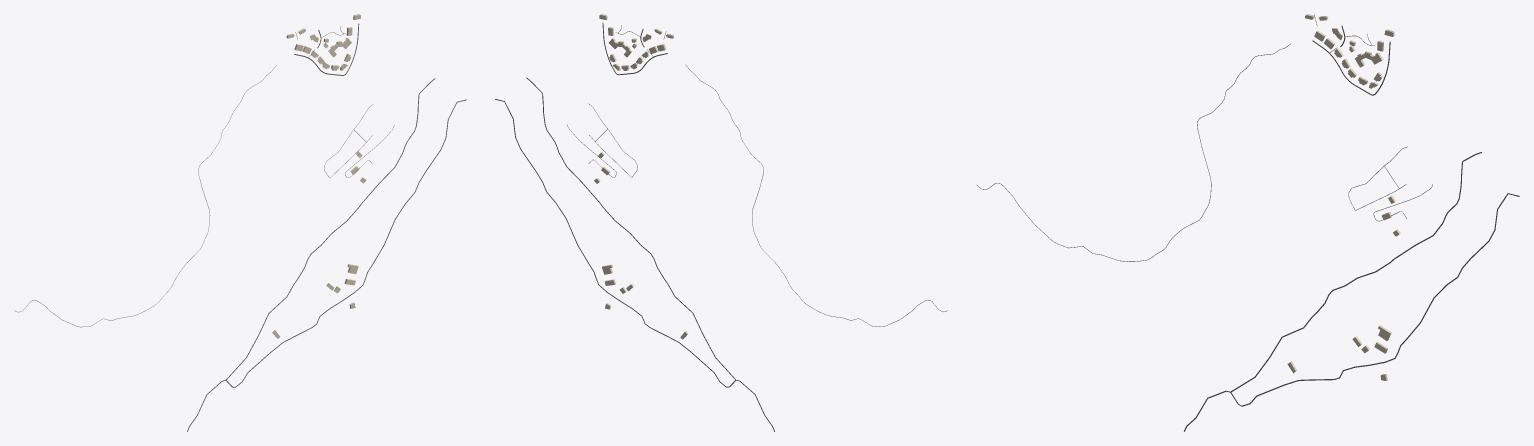
Rendered from historic-palestine-09_23_3509_3170.glb.
3 renders of one model, left to right at view 1: azimuth 30°, elevation 25°; view 2: azimuth 150°, elevation 25°; view 3: azimuth 330°, elevation 25°, orthographic. The views are drawn at different scales.
Visible parts, largest first — view 1: Road, Road .001; view 2: Road, Road .001; view 3: Road, Road .001, Road .002.
Boxes of the visible parts, <box> form: Road: <box>187,78,435,431</box>; Road .001: <box>226,99,466,387</box>; Road: <box>526,77,774,431</box>; Road .001: <box>495,99,735,387</box>; Road: <box>1184,152,1481,431</box>; Road .001: <box>1230,193,1519,406</box>; Road .002: <box>977,43,1290,261</box>.
Bounding box in the file's own units: 1617 × 1282 × 8.7.
